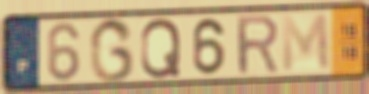6: (45, 20, 82, 84), (190, 16, 227, 78)
G: (88, 16, 136, 85)
M: (280, 11, 333, 75)
Q: (139, 16, 183, 81)
R: (233, 12, 281, 78)
